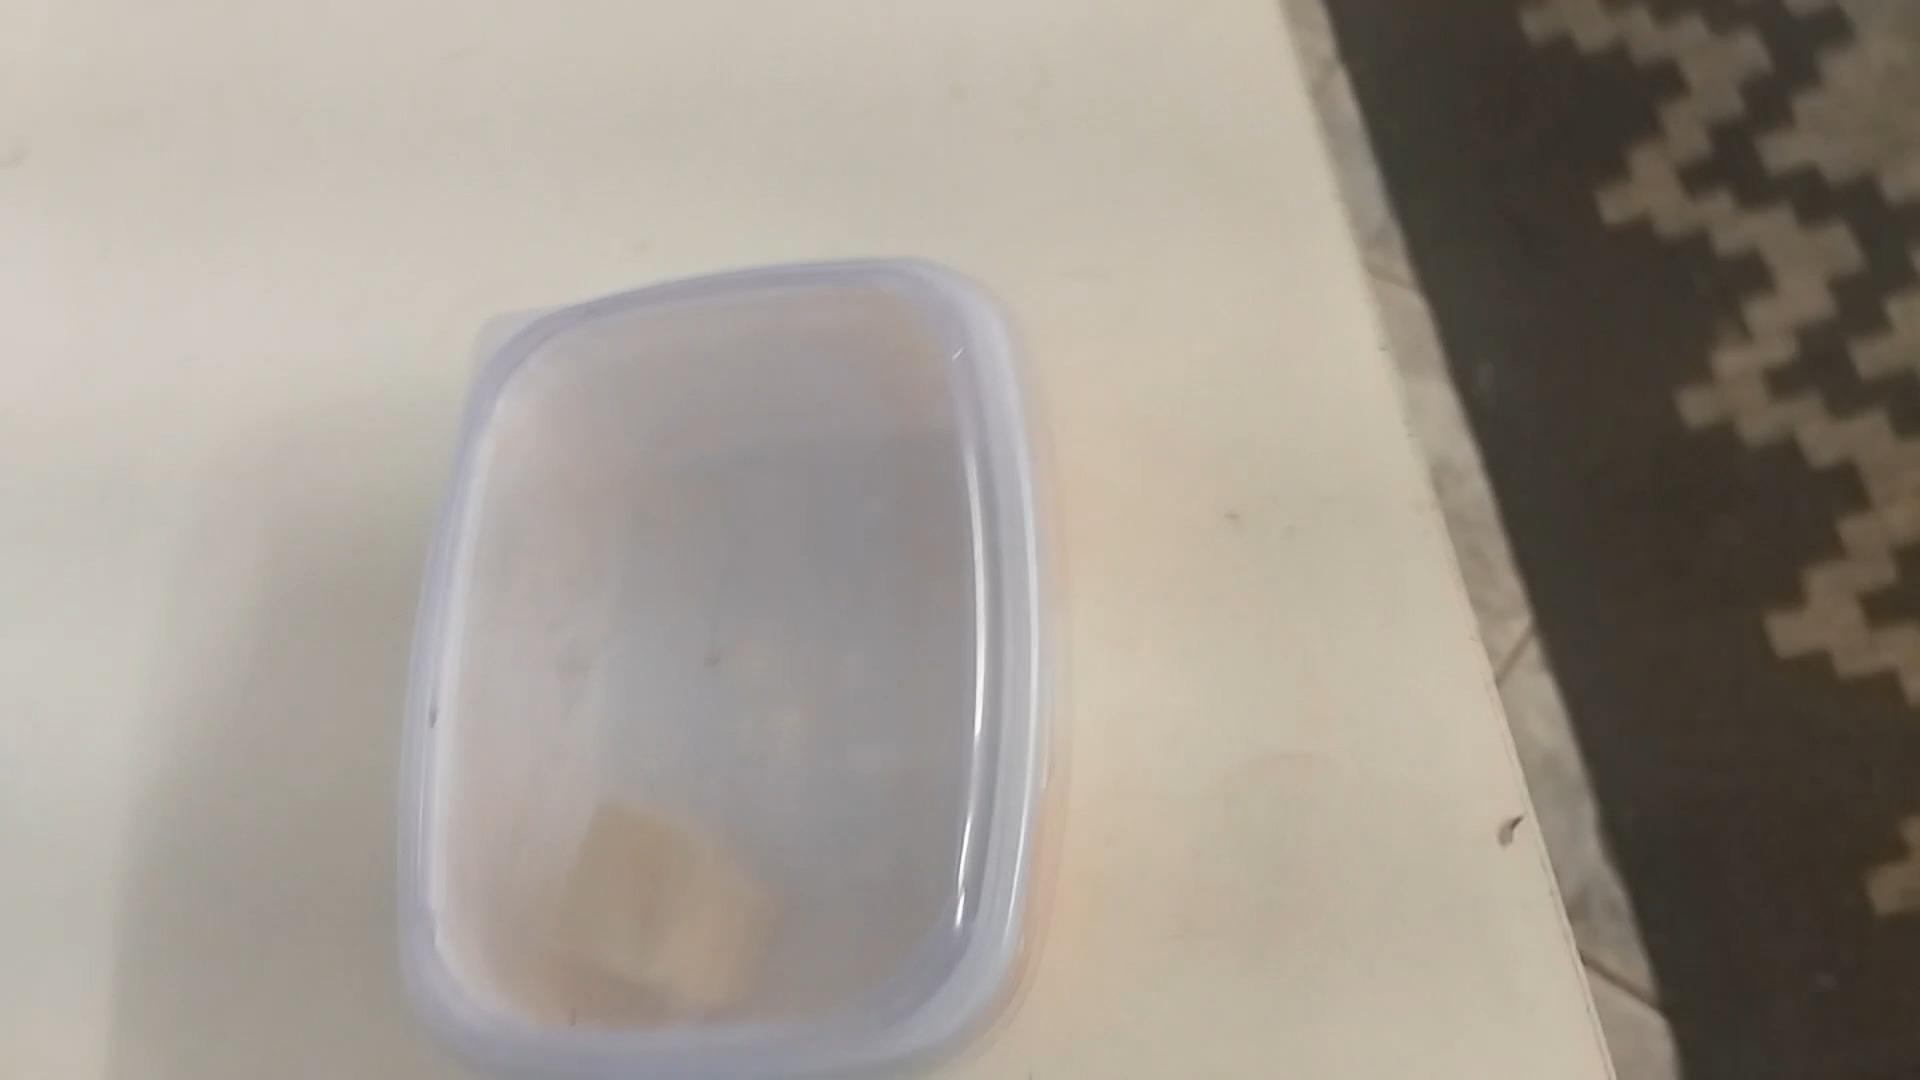butter: (401, 260, 1040, 1075)
